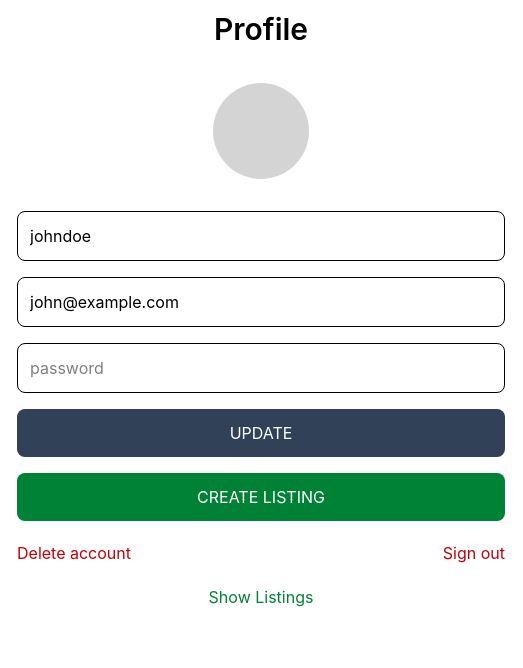
Test: Profile — show listings › shows error message when API returns success: false
Click the button "Show Listings" at (261,597), box [17,585,505,609]
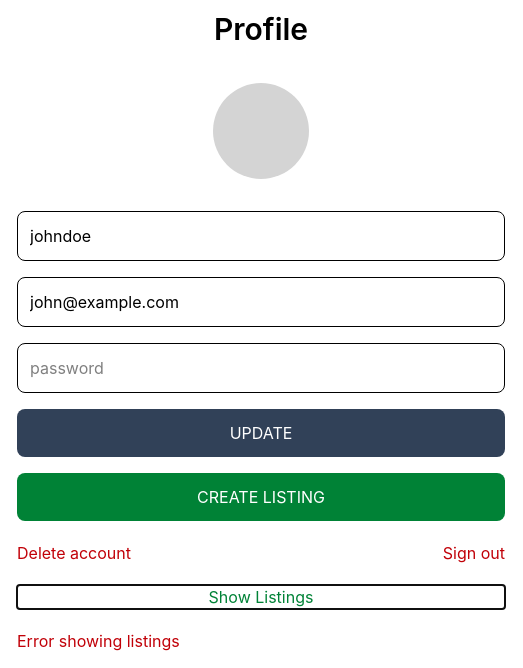
Check: the text "Error showing listings" is shown, box [17,631,180,651]
